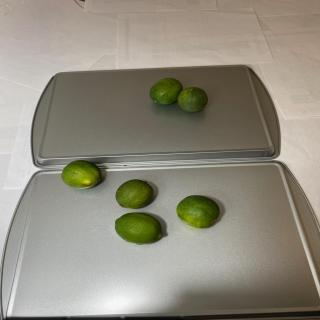Lemon: (114, 212, 163, 245), (176, 195, 220, 228), (115, 179, 154, 209), (61, 160, 101, 189), (149, 77, 183, 105), (177, 86, 208, 112)
